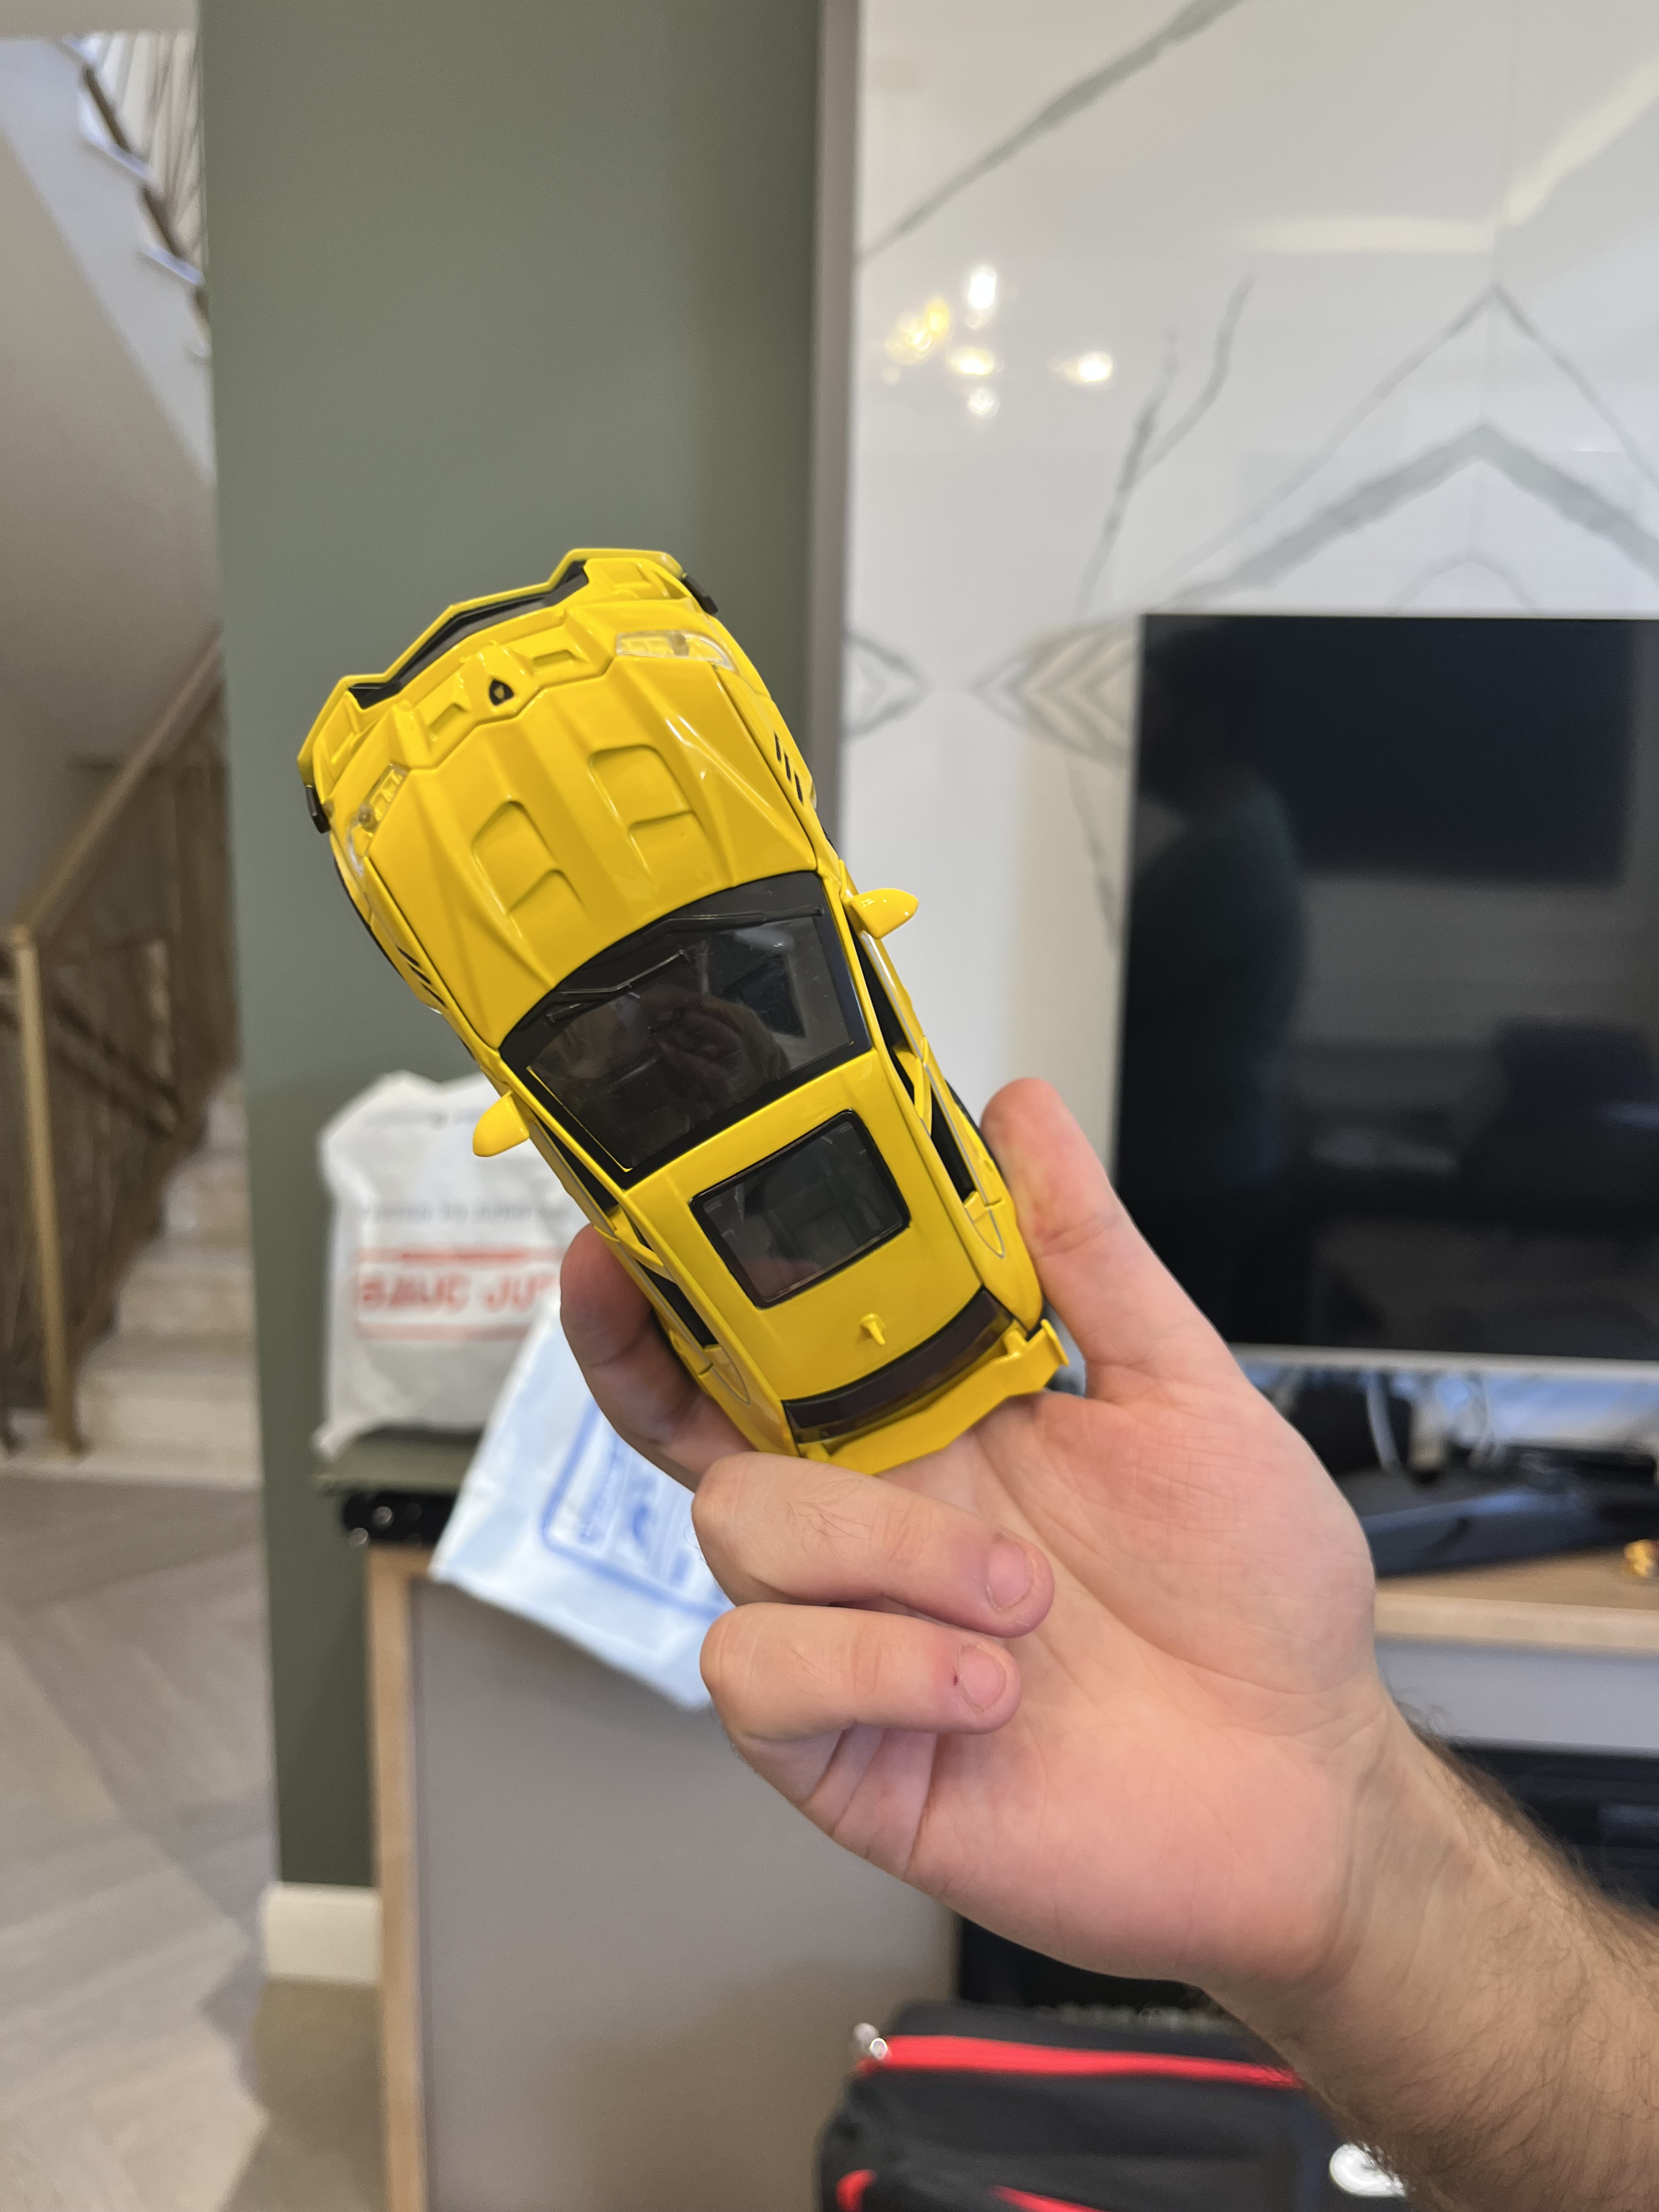lambo: (291, 550, 1073, 1475)
